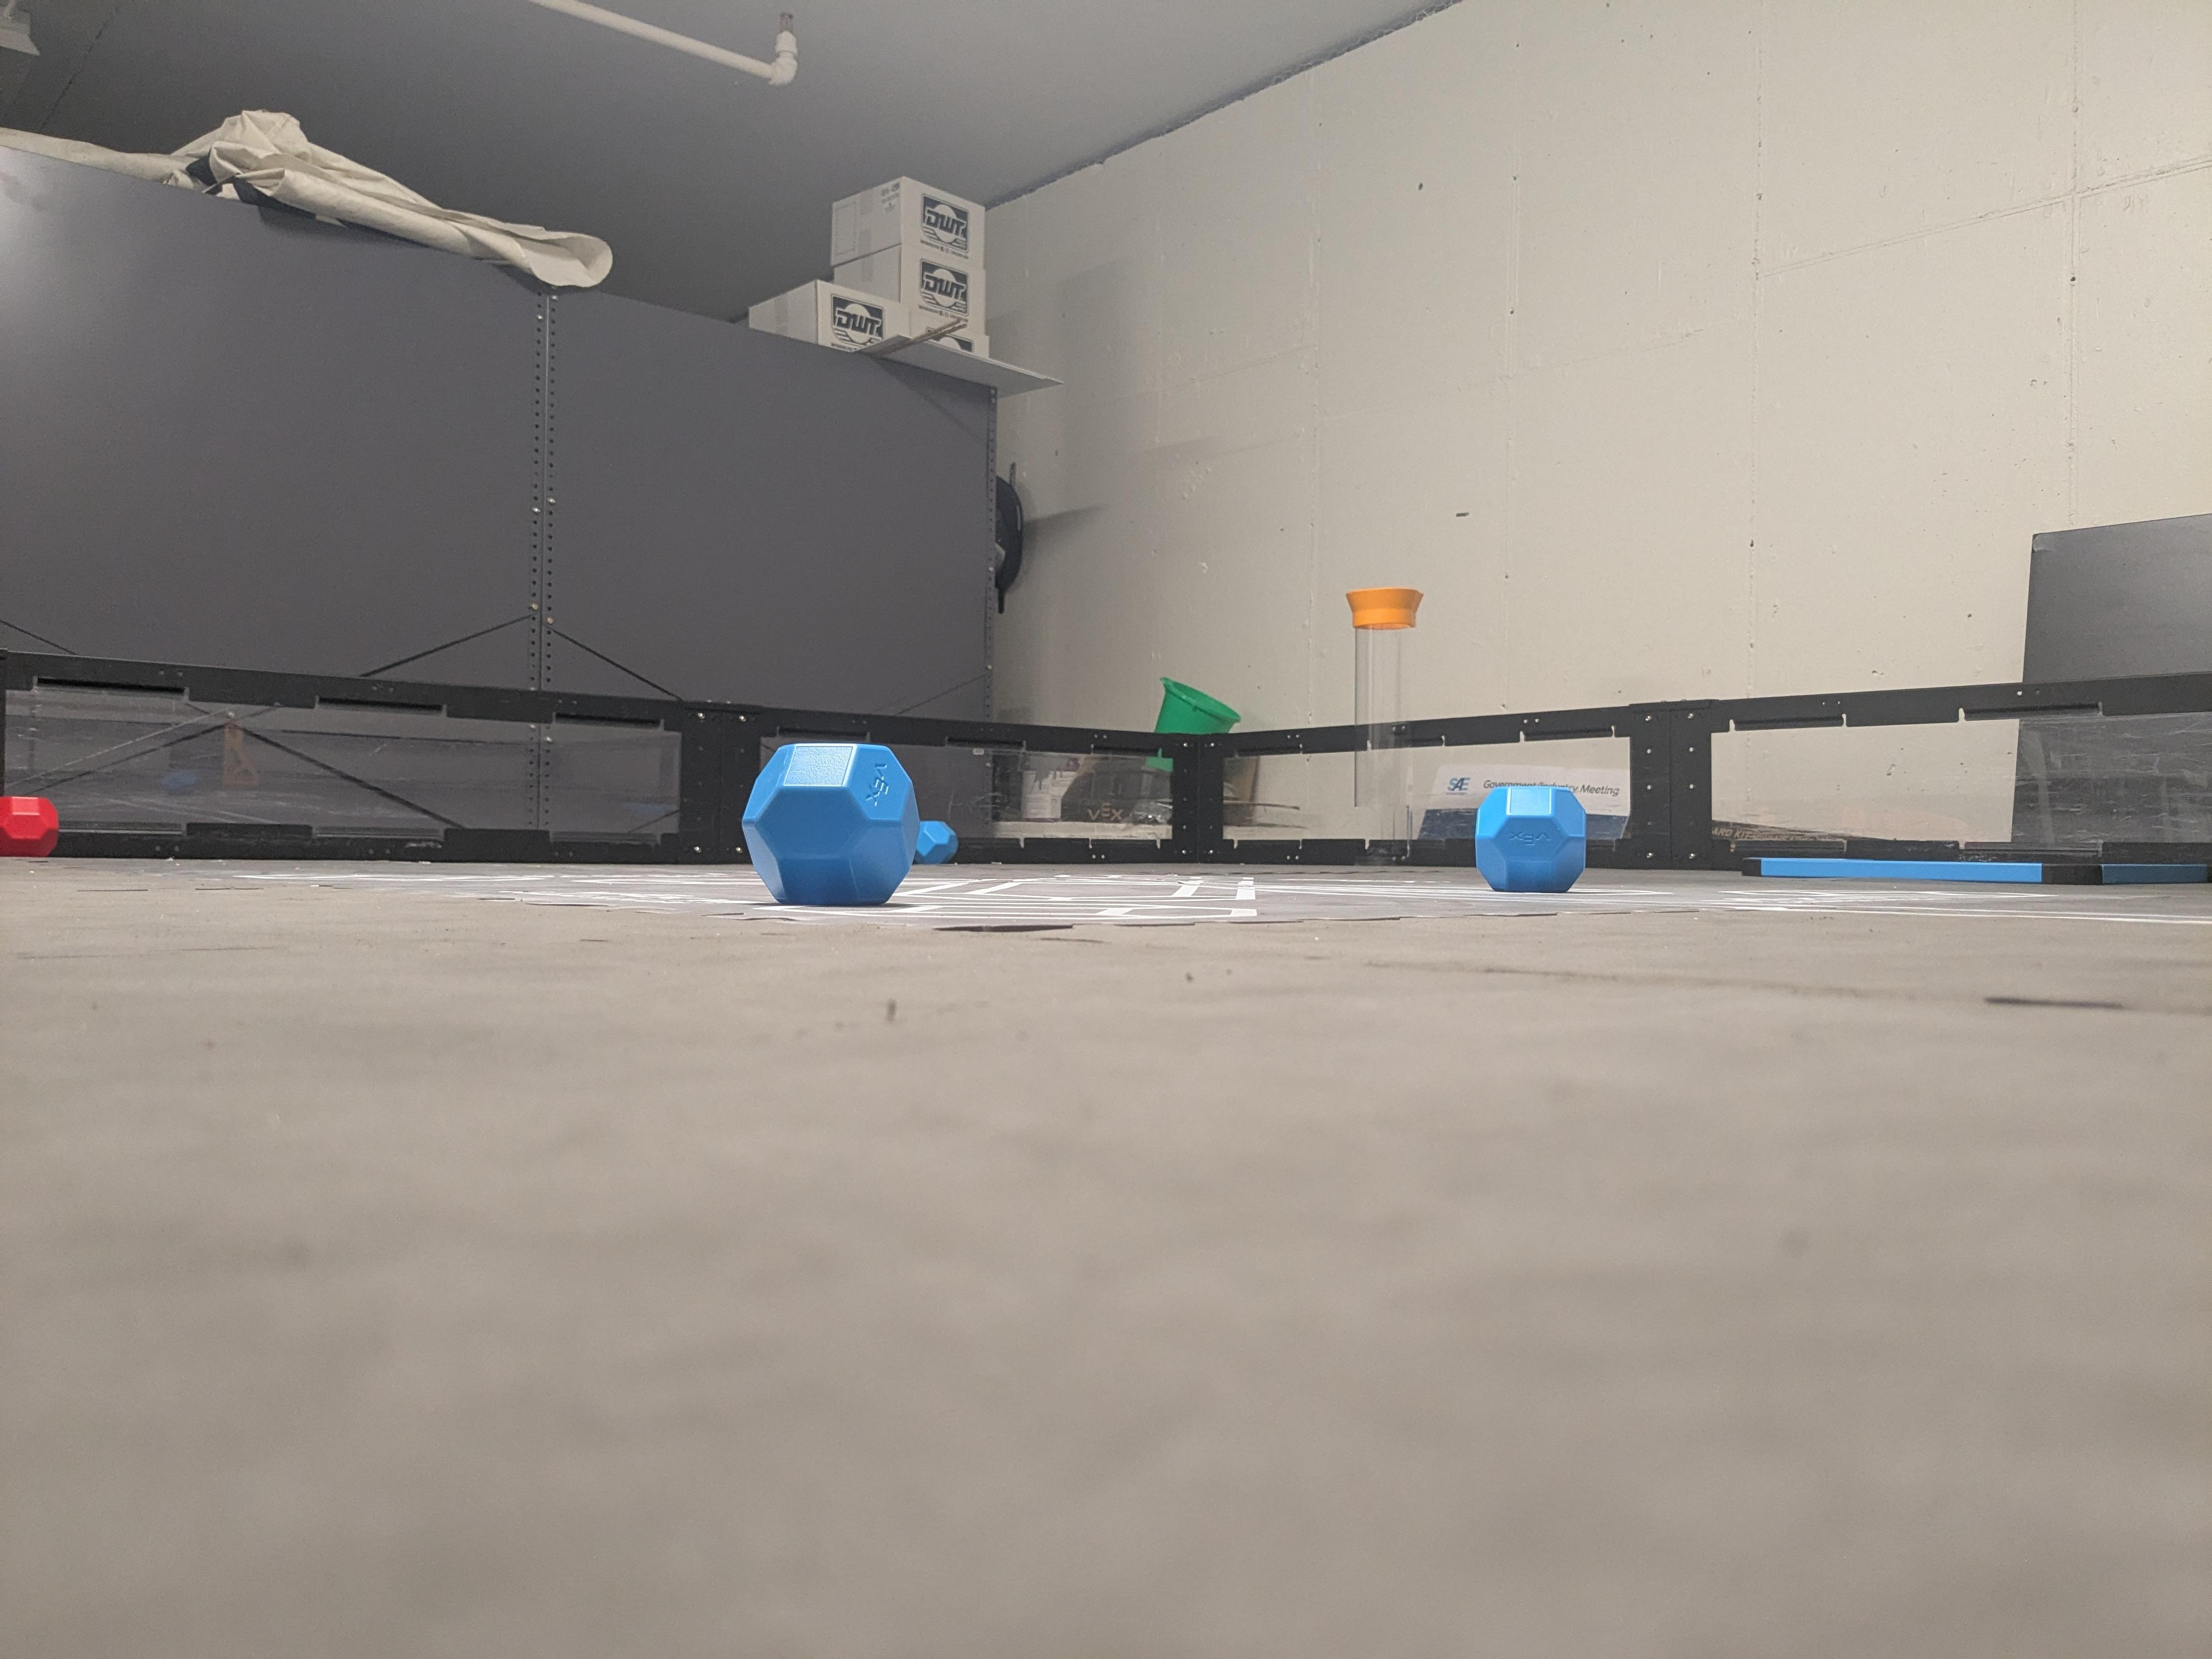Vex-Pieces-BLUE: (742, 741, 953, 904), (1475, 784, 1585, 889)
